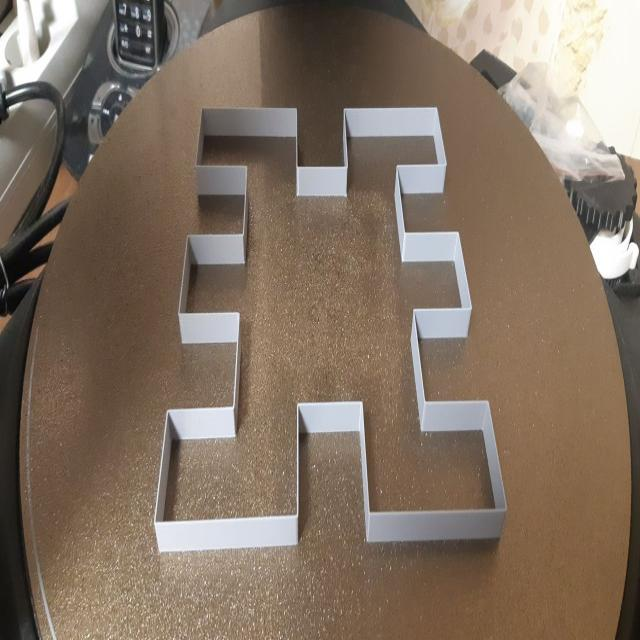Without deffect: (155, 83, 512, 568)
